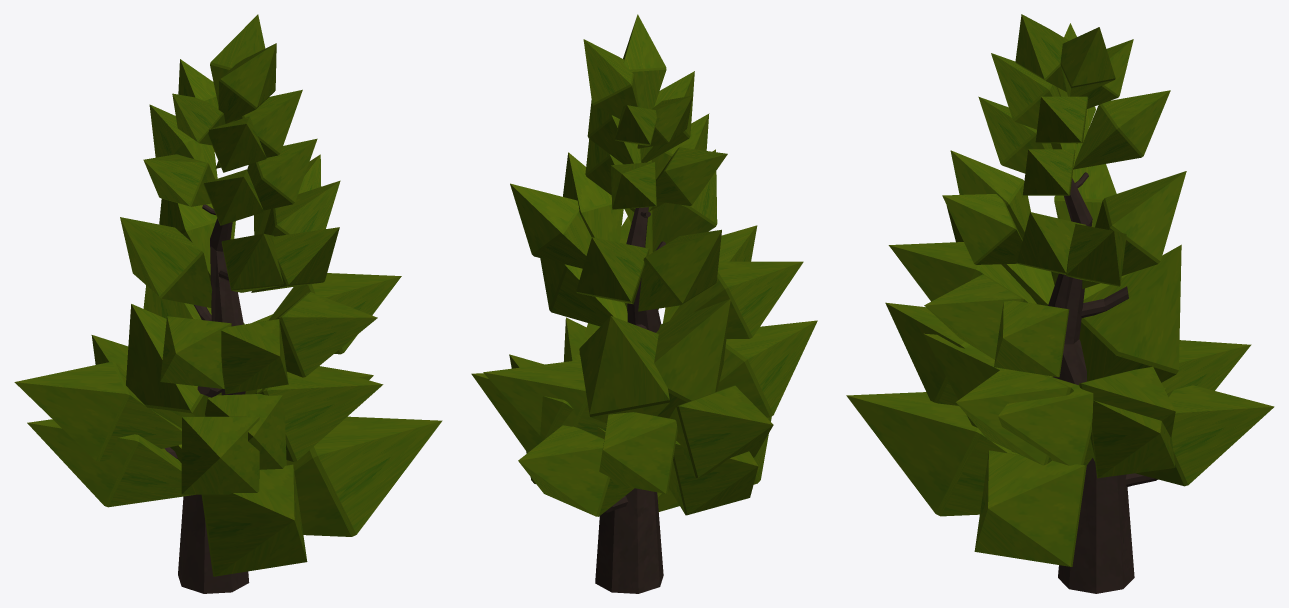
The model's file is tree-lime-green-flowers_6.fbx.
The picture shows the model from 3 angles, left to right: view 1: azimuth 30°, elevation 25°; view 2: azimuth 150°, elevation 25°; view 3: azimuth 270°, elevation 25°; orthographic projection. The views are drawn at different scales.
Parts seen in each view (by area): view 1: Cube.005; view 2: Cube.005; view 3: Cube.005.
Part boxes in pixels (bbox=[...]): Cube.005: bbox=[14, 14, 442, 593]; Cube.005: bbox=[471, 14, 817, 593]; Cube.005: bbox=[846, 14, 1274, 593].
Size of the model in its own units: 193 by 291 by 196.
